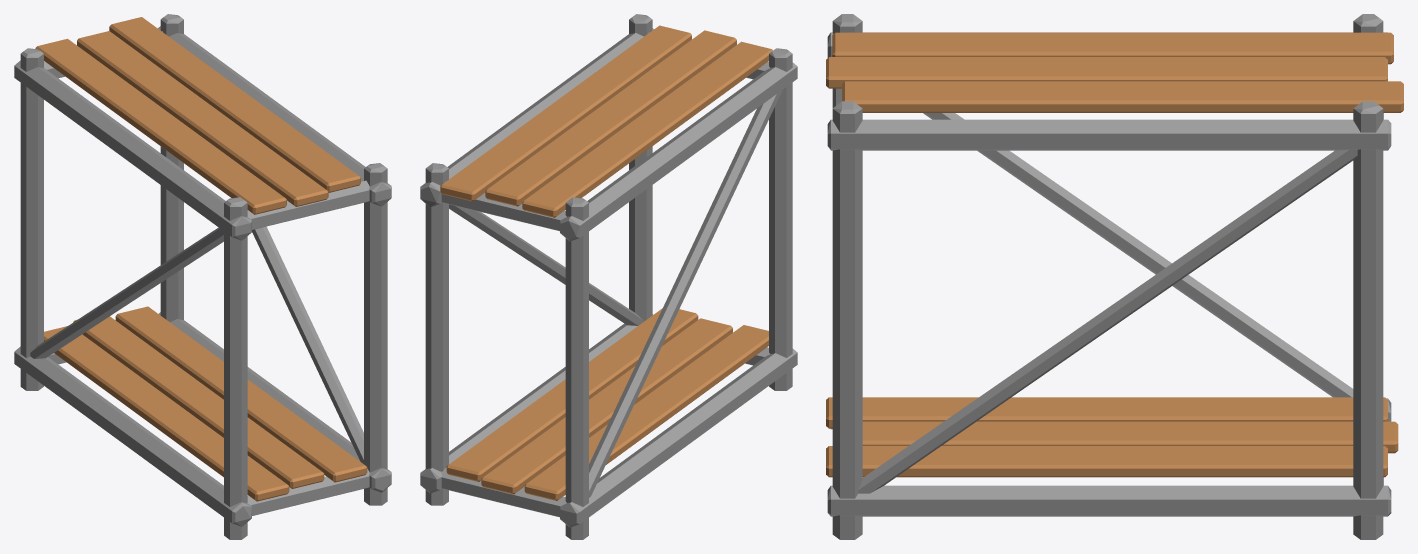
File: scaffolding.glb
3 views of the same model, side by side, from view 1: azimuth 30°, elevation 25°; view 2: azimuth 150°, elevation 25°; view 3: azimuth 270°, elevation 25° (orthographic). The views are drawn at different scales.
Parts seen in each view (by area): view 1: Scaffolding A; view 2: Scaffolding A; view 3: Scaffolding A.
Boxes of the visible parts, x1=… form: Scaffolding A: x1=14, y1=14, x2=391, y2=539; Scaffolding A: x1=420, y1=14, x2=797, y2=539; Scaffolding A: x1=826, y1=14, x2=1403, y2=539.
Bounding box in the file's own units: 0.2452 × 0.4915 × 0.6.
